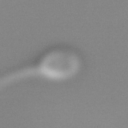normal: (1, 59, 38, 94)
